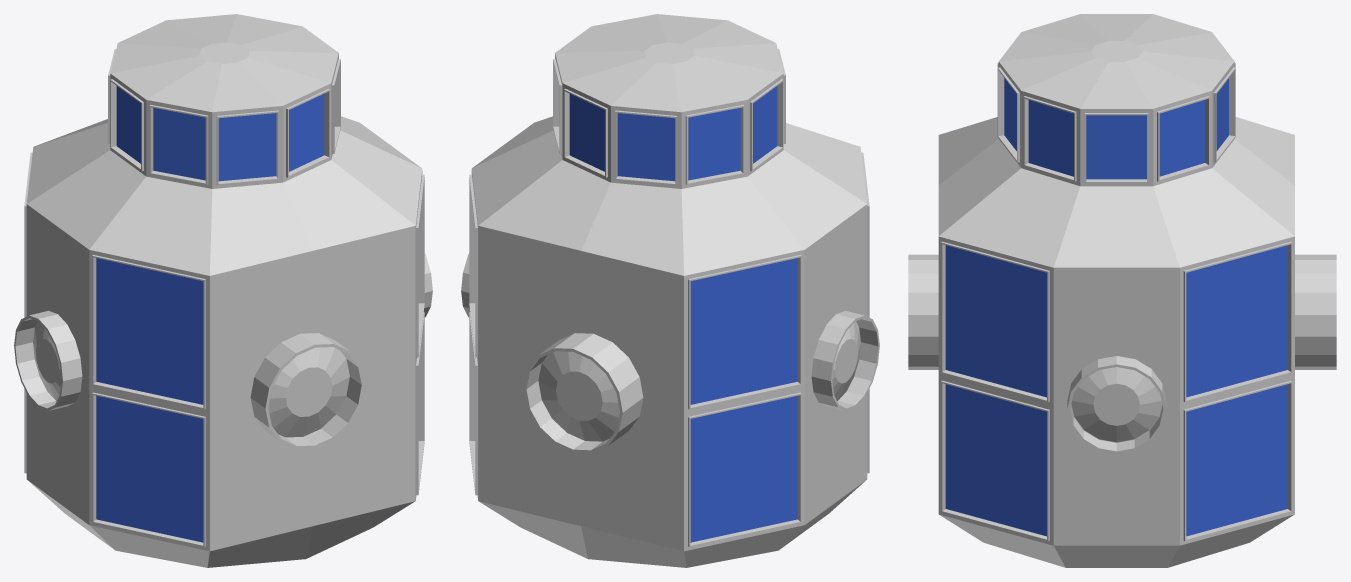
The model's file is Planning.glb.
3 renders of one model, left to right at view 1: azimuth 30°, elevation 25°; view 2: azimuth 150°, elevation 25°; view 3: azimuth 270°, elevation 25°, orthographic.
Visible parts, largest first — view 1: Circle.002; view 2: Circle.002; view 3: Circle.002.
Boxes of the visible parts, <box> form: Circle.002: <box>14,14,432,567</box>; Circle.002: <box>461,14,879,567</box>; Circle.002: <box>908,14,1336,567</box>.
Size of the model in its own units: 2.84 by 3.27 by 2.82.
